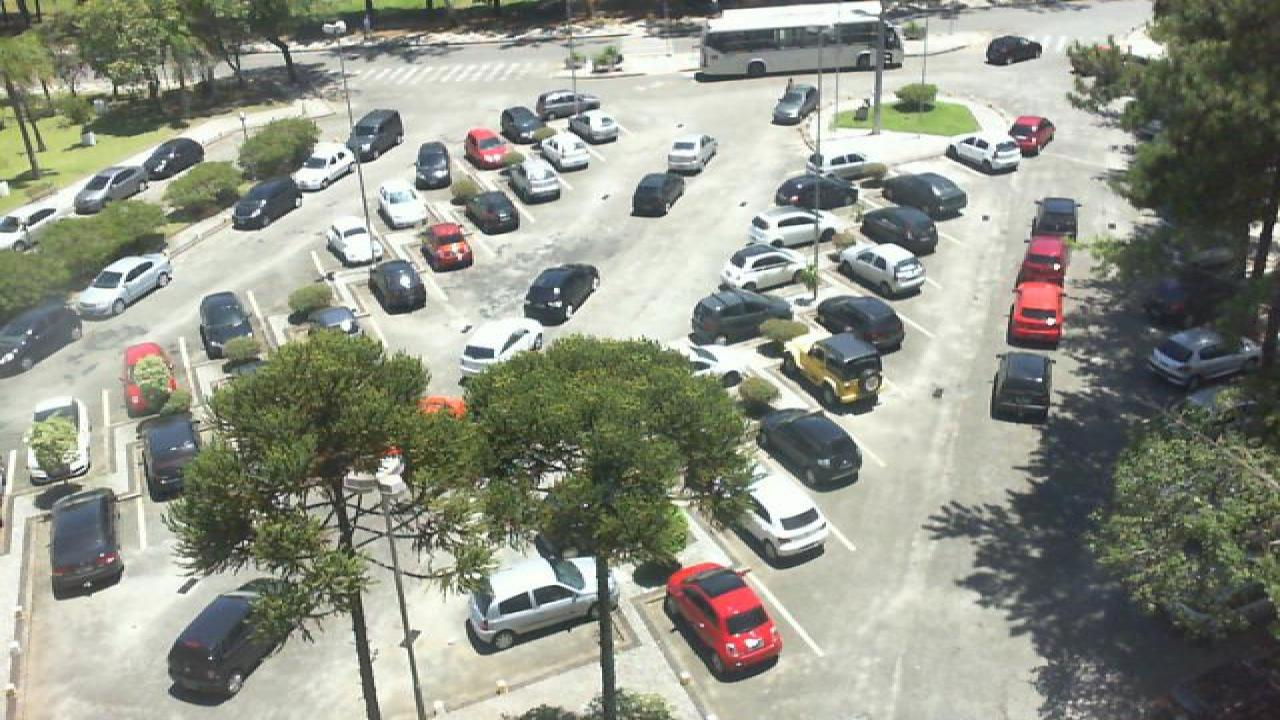Car: (662, 560, 786, 684), (164, 592, 292, 706), (462, 554, 602, 652), (712, 459, 830, 565), (756, 406, 864, 492), (44, 487, 124, 599), (784, 332, 886, 414), (68, 254, 176, 322), (1150, 325, 1262, 386), (20, 395, 94, 485), (0, 303, 82, 380), (138, 410, 206, 502), (194, 289, 270, 370), (688, 287, 794, 345), (454, 320, 546, 384), (812, 294, 906, 352), (836, 243, 930, 299), (988, 349, 1054, 424), (524, 262, 598, 326), (118, 340, 178, 417), (718, 246, 810, 295), (880, 172, 970, 221), (1004, 281, 1068, 349), (858, 204, 940, 256), (746, 209, 836, 253), (0, 200, 76, 252), (230, 176, 302, 230), (772, 172, 866, 213), (70, 164, 144, 215), (284, 140, 356, 192), (364, 259, 428, 315), (944, 134, 1026, 174), (458, 188, 524, 236), (500, 154, 562, 204), (322, 218, 382, 268), (796, 150, 888, 182), (136, 137, 204, 180), (1016, 236, 1070, 288), (350, 107, 404, 159), (418, 221, 474, 271), (370, 186, 428, 232), (304, 305, 364, 349), (628, 171, 684, 217), (458, 127, 516, 171), (1000, 114, 1056, 158), (770, 80, 822, 124), (1032, 195, 1082, 240), (412, 140, 456, 190), (536, 132, 592, 171), (666, 136, 718, 177), (500, 105, 552, 144), (562, 111, 620, 145), (534, 89, 602, 118), (984, 35, 1044, 65)
